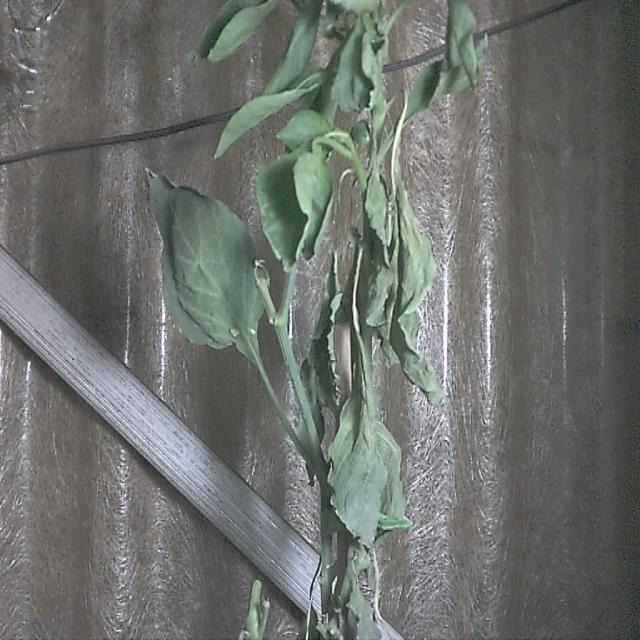Leaf: (147, 172, 268, 365), (328, 350, 388, 544)
